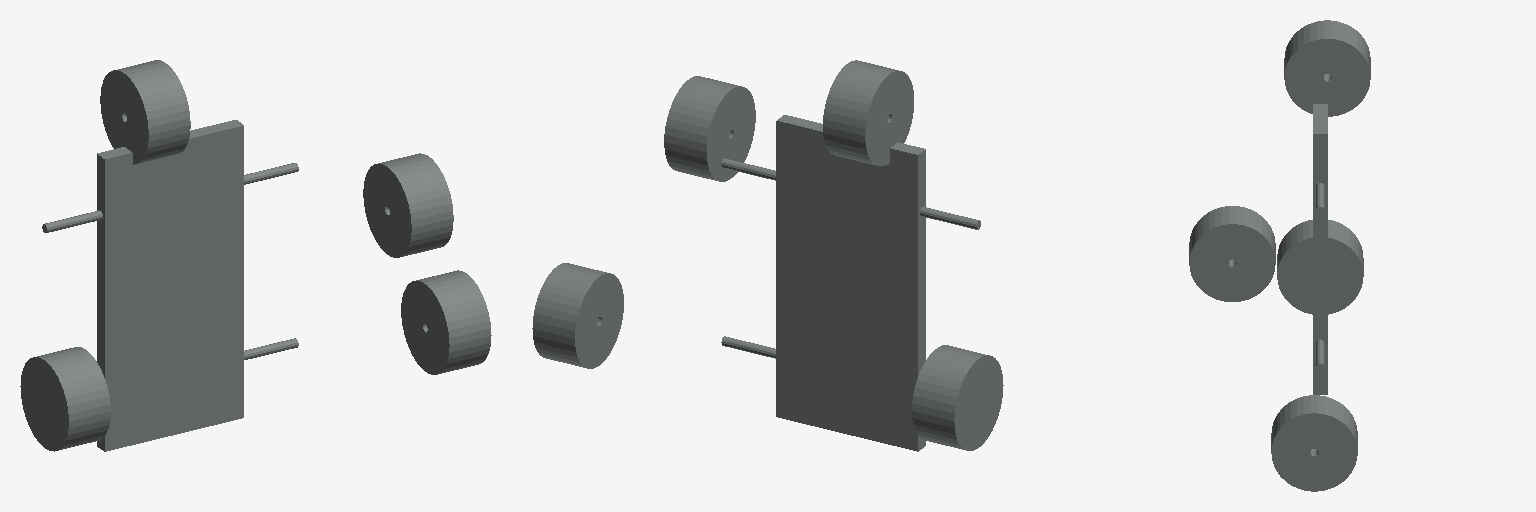
The robot description file, URDF, robot "cargazebo":
<?xml version="1.0" encoding="utf-8"?>
<!-- This URDF was automatically created by SolidWorks to URDF Exporter! Originally created by [author] ([email redacted]) 
     Commit Version: 1.5.1-0-g916b5db  Build Version: 1.5.7152.31018
     For more information, please see http://wiki.ros.org/sw_urdf_exporter -->
<robot
  name="cargazebo">
  <link
    name="base">
    <inertial>
      <origin
        xyz="-3.10508648253747E-17 4.10835462605806E-17 0.025"
        rpy="0 0 0" />
      <mass
        value="199.41079608564" />
      <inertia
        ixx="16.6880928622672"
        ixy="1.14959311601354E-15"
        ixz="-1.04369679817107E-17"
        iyy="4.65839828138953"
        iyz="2.98189478751404E-17"
        izz="21.2647449290971" />
    </inertial>
    <visual>
      <origin
        xyz="0 0 0"
        rpy="0 0 0" />
      <geometry>
        <mesh
          filename="package://cargazebo/meshes/base.STL" />
      </geometry>
      <material
        name="">
        <color
          rgba="0.529411764705882 0.549019607843137 0.549019607843137 1" />
      </material>
    </visual>
    <collision>
      <origin
        xyz="0 0 0"
        rpy="0 0 0" />
      <geometry>
        <mesh
          filename="package://cargazebo/meshes/base.STL" />
      </geometry>
    </collision>
  </link>
  <link
    name="wheel r1">
    <inertial>
      <origin
        xyz="-0.075 0 -6.9389E-18"
        rpy="0 0 0" />
      <mass
        value="81.875" />
      <inertia
        ixx="0.93031"
        ixy="-1.816E-33"
        ixz="1.0584E-33"
        iyy="0.61867"
        iyz="7.1066E-37"
        izz="0.61867" />
    </inertial>
    <visual>
      <origin
        xyz="0 0 0"
        rpy="0 0 0" />
      <geometry>
        <mesh
          filename="package://cargazebo/meshes/wheel r1.STL" />
      </geometry>
      <material
        name="">
        <color
          rgba="0.52941 0.54902 0.54902 1" />
      </material>
    </visual>
    <collision>
      <origin
        xyz="0 0 0"
        rpy="0 0 0" />
      <geometry>
        <mesh
          filename="package://cargazebo/meshes/wheel r1.STL" />
      </geometry>
    </collision>
  </link>
  <joint
    name="wheel r1 link"
    type="continuous">
    <origin
      xyz="-0.3 -0.025 -0.3"
      rpy="1.5708 0 0" />
    <parent
      link="base" />
    <child
      link="wheel r1" />
    <axis
      xyz="1 0 0" />
  </joint>
  <link
    name="wheel r2">
    <inertial>
      <origin
        xyz="-0.075 5.5511E-17 -6.9389E-18"
        rpy="0 0 0" />
      <mass
        value="81.875" />
      <inertia
        ixx="0.93031"
        ixy="-1.816E-33"
        ixz="1.0584E-33"
        iyy="0.61867"
        iyz="7.1066E-37"
        izz="0.61867" />
    </inertial>
    <visual>
      <origin
        xyz="0 0 0"
        rpy="0 0 0" />
      <geometry>
        <mesh
          filename="package://cargazebo/meshes/wheel r2.STL" />
      </geometry>
      <material
        name="">
        <color
          rgba="0.52941 0.54902 0.54902 1" />
      </material>
    </visual>
    <collision>
      <origin
        xyz="0 0 0"
        rpy="0 0 0" />
      <geometry>
        <mesh
          filename="package://cargazebo/meshes/wheel r2.STL" />
      </geometry>
    </collision>
  </link>
  <joint
    name="wheel r2 joint"
    type="continuous">
    <origin
      xyz="-0.3 -0.025 0.3"
      rpy="1.5708 0 0" />
    <parent
      link="base" />
    <child
      link="wheel r2" />
    <axis
      xyz="1 0 0" />
  </joint>
  <link
    name="wheel l1">
    <inertial>
      <origin
        xyz="0.075 -0.01 0"
        rpy="0 0 0" />
      <mass
        value="81.875" />
      <inertia
        ixx="0.93031"
        ixy="1.0682E-20"
        ixz="1.3014E-18"
        iyy="0.61867"
        iyz="0"
        izz="0.61867" />
    </inertial>
    <visual>
      <origin
        xyz="0 0 0"
        rpy="0 0 0" />
      <geometry>
        <mesh
          filename="package://cargazebo/meshes/wheel l1.STL" />
      </geometry>
      <material
        name="">
        <color
          rgba="0.52941 0.54902 0.54902 1" />
      </material>
    </visual>
    <collision>
      <origin
        xyz="0 0 0"
        rpy="0 0 0" />
      <geometry>
        <mesh
          filename="package://cargazebo/meshes/wheel l1.STL" />
      </geometry>
    </collision>
  </link>
  <joint
    name="wheel l1 link"
    type="continuous">
    <origin
      xyz="0.3 -0.015829 -0.30399"
      rpy="-0.41002 0 0" />
    <parent
      link="base" />
    <child
      link="wheel l1" />
    <axis
      xyz="1 0 0" />
  </joint>
  <link
    name="wheel l2 ">
    <inertial>
      <origin
        xyz="0.075 5.5511E-17 -6.9389E-18"
        rpy="0 0 0" />
      <mass
        value="81.875" />
      <inertia
        ixx="0.93031"
        ixy="-1.816E-33"
        ixz="1.0584E-33"
        iyy="0.61867"
        iyz="7.1066E-37"
        izz="0.61867" />
    </inertial>
    <visual>
      <origin
        xyz="0 0 0"
        rpy="0 0 0" />
      <geometry>
        <mesh
          filename="package://cargazebo/meshes/wheel l2 .STL" />
      </geometry>
      <material
        name="">
        <color
          rgba="0.52941 0.54902 0.54902 1" />
      </material>
    </visual>
    <collision>
      <origin
        xyz="0 0 0"
        rpy="0 0 0" />
      <geometry>
        <mesh
          filename="package://cargazebo/meshes/wheel l2 .STL" />
      </geometry>
    </collision>
  </link>
  <joint
    name="wheel l2 link "
    type="continuous">
    <origin
      xyz="0.3 -0.025 0.3"
      rpy="1.5708 0 0" />
    <parent
      link="base" />
    <child
      link="wheel l2 " />
    <axis
      xyz="1 0 0" />
  </joint>
</robot>

--- Render facts (derived) ---
3 views of the same robot in one strip: view 1: azimuth 30°, elevation 25°; view 2: azimuth 150°, elevation 25°; view 3: azimuth 270°, elevation 25° (orthographic).
Robot: cargazebo — 5 links, 4 joints (4 continuous); root link base; default pose: all joints at 0.
Visible links, largest first — view 1: base, wheel l2, wheel l1, wheel r1, wheel r2; view 2: base, wheel l1, wheel r1, wheel r2, wheel l2; view 3: wheel l1, wheel l2, wheel r2, wheel r1, base.
Boxes of the visible links, x1,y1,x2,y2 form: base: [42, 120, 298, 451]; wheel l2: [363, 153, 453, 257]; wheel l1: [401, 270, 491, 374]; wheel r1: [20, 347, 110, 451]; wheel r2: [100, 60, 190, 164]; base: [721, 115, 980, 451]; wheel l1: [532, 263, 623, 368]; wheel r1: [912, 345, 1003, 450]; wheel r2: [823, 60, 913, 165]; wheel l2: [664, 76, 755, 181]; wheel l1: [1271, 395, 1357, 491]; wheel l2: [1189, 206, 1275, 301]; wheel r2: [1284, 20, 1370, 116]; wheel r1: [1277, 220, 1363, 314]; base: [1313, 104, 1327, 394].
Size in the robot's own frame: 1.5 by 0.63 by 1.25 metres.
5 mesh visuals loaded from 5 distinct referenced files (5 binary STL).